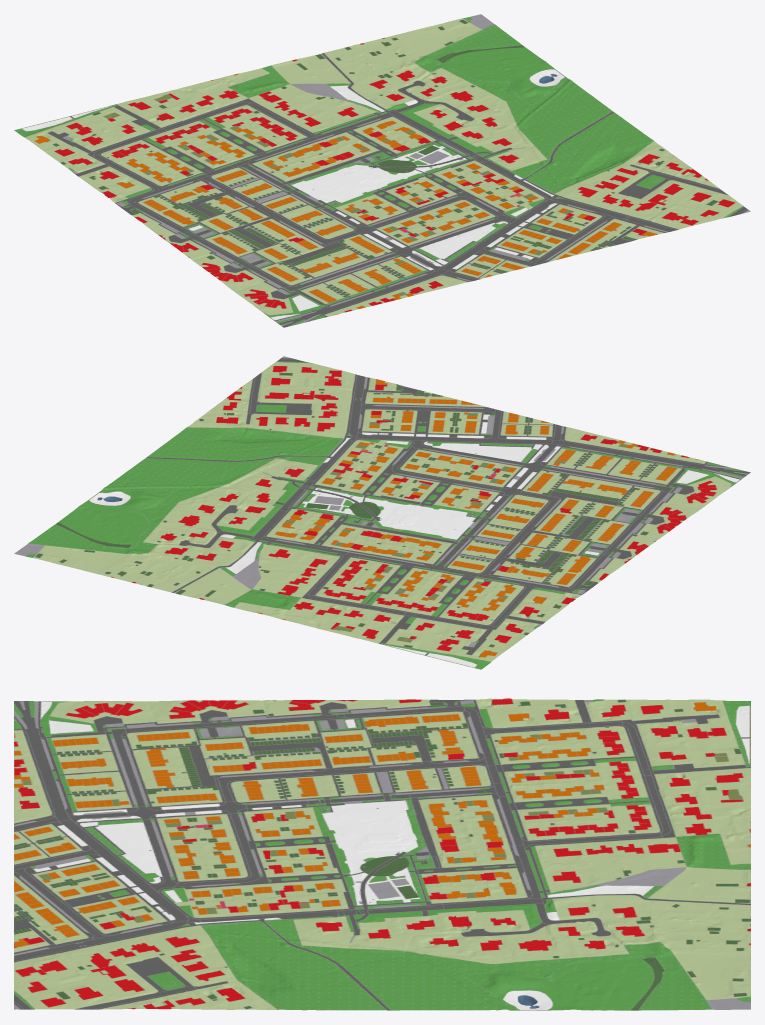
Rendered from Terrain_DefaultScenario.fbx.
The picture shows the model from 3 angles, top to bottom: view 1: azimuth 30°, elevation 25°; view 2: azimuth 150°, elevation 25°; view 3: azimuth 270°, elevation 25°; orthographic projection. The views are drawn at different scales.
Size of the model in its own units: 49950 by 49950 by 442.
1 material, 1 textured.
